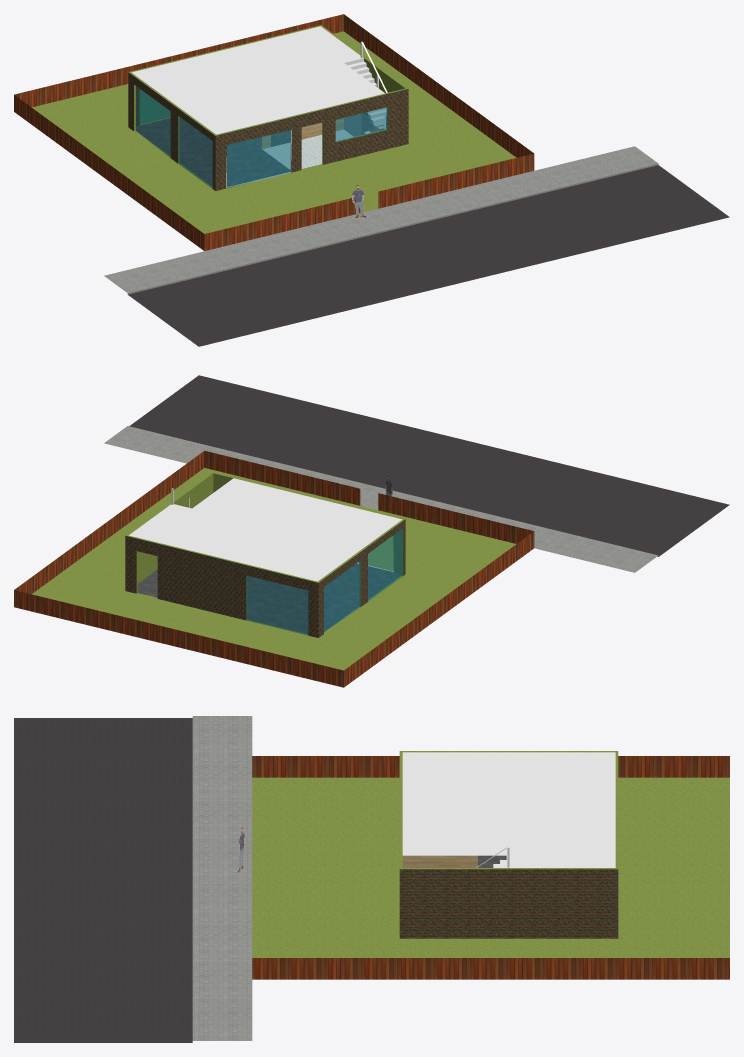
The model's file is GruppeE.glb.
3 renders of one model, top to bottom at view 1: azimuth 30°, elevation 25°; view 2: azimuth 150°, elevation 25°; view 3: azimuth 270°, elevation 25°, orthographic. The views are drawn at different scales.
Visible parts, largest first — view 1: ID547, ID560, SketchUp, ID743, ID534, ID586, ID724, ID641, ID694, ID708, ID686, ID573 (+2 smaller); view 2: ID547, ID560, SketchUp, ID743, ID586, ID534, ID724, ID716, ID708, ID694; view 3: ID547, ID560, ID743, ID534, SketchUp, ID586, ID749.
Part boxes in pixels (x1=…): ID547: x1=128, y1=165, x2=729, y2=346; ID560: x1=32, y1=25, x2=516, y2=233; SketchUp: x1=14, y1=14, x2=534, y2=250; ID743: x1=131, y1=26, x2=384, y2=134; ID534: x1=104, y1=146, x2=658, y2=294; ID586: x1=128, y1=72, x2=408, y2=190; ID724: x1=136, y1=113, x2=383, y2=186; ID641: x1=227, y1=130, x2=290, y2=187; ID694: x1=178, y1=116, x2=212, y2=188; ID708: x1=136, y1=86, x2=170, y2=157; ID686: x1=335, y1=107, x2=387, y2=141; ID573: x1=262, y1=129, x2=353, y2=169; ID547: x1=129, y1=375, x2=729, y2=556; ID560: x1=32, y1=468, x2=516, y2=670; SketchUp: x1=14, y1=450, x2=534, y2=687; ID743: x1=129, y1=478, x2=402, y2=581; ID586: x1=125, y1=519, x2=405, y2=637; ID534: x1=104, y1=426, x2=658, y2=572; ID724: x1=137, y1=563, x2=400, y2=634; ID716: x1=246, y1=576, x2=308, y2=635; ID708: x1=324, y1=560, x2=360, y2=631; ID694: x1=368, y1=528, x2=402, y2=601; ID547: x1=14, y1=718, x2=192, y2=1042; ID560: x1=252, y1=751, x2=729, y2=957; ID743: x1=402, y1=752, x2=615, y2=867; ID534: x1=192, y1=716, x2=252, y2=1040; SketchUp: x1=252, y1=756, x2=729, y2=979; ID586: x1=399, y1=869, x2=618, y2=938; ID749: x1=402, y1=855, x2=477, y2=867.
Bounding box in the file's own units: 32.2 × 5.67 × 29.98.
100 materials, 16 textured.
